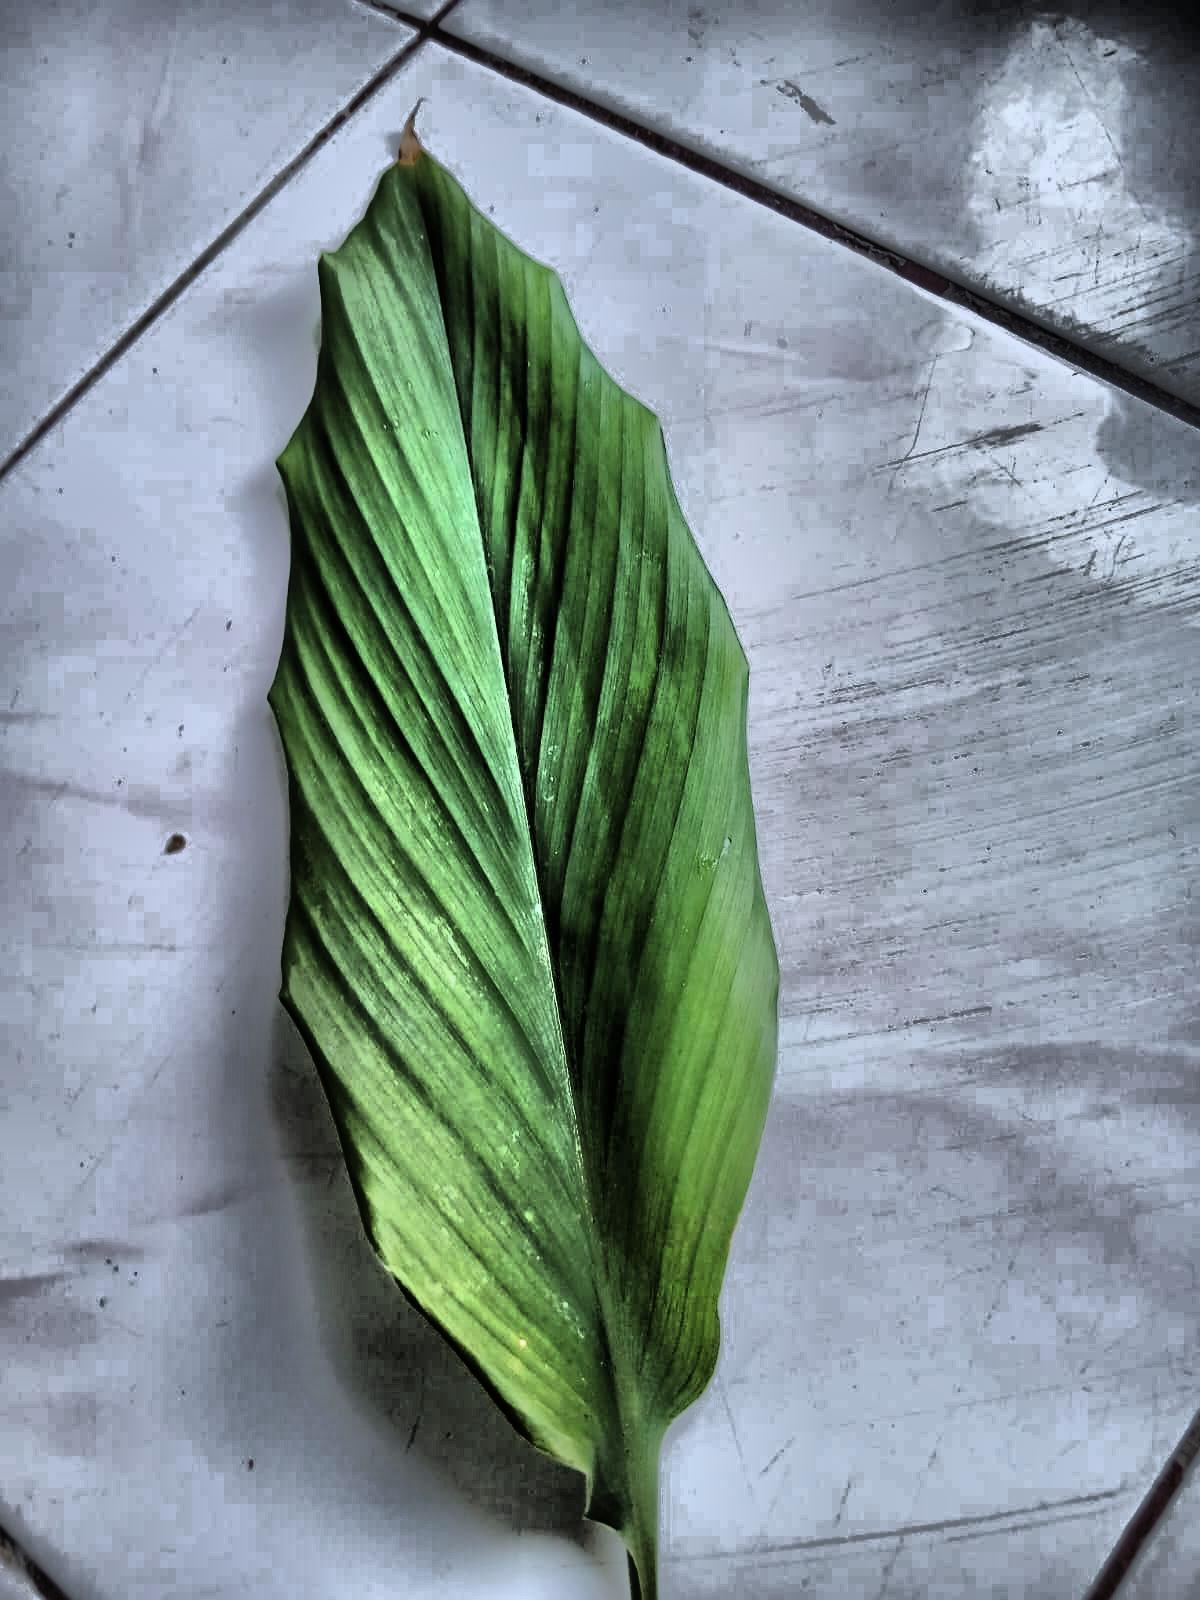daun kunyit: (268, 123, 779, 1599)
